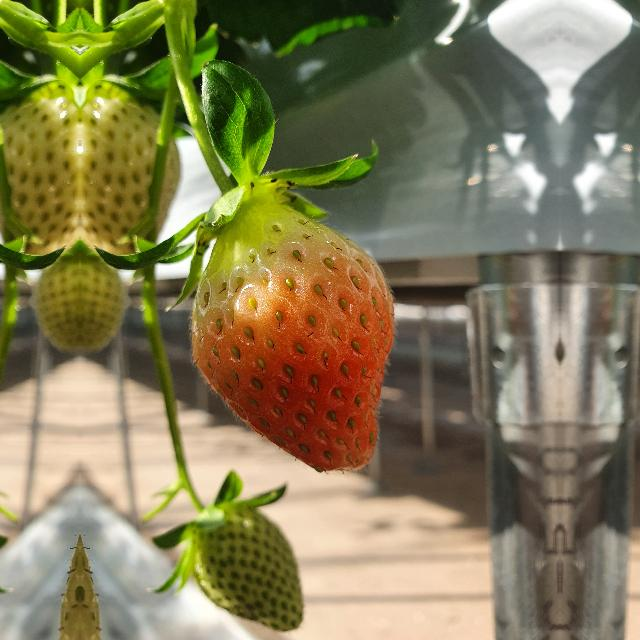Health_25: (178, 496, 308, 640), (82, 61, 176, 252), (0, 61, 78, 252)
Health_75: (192, 202, 394, 472)
